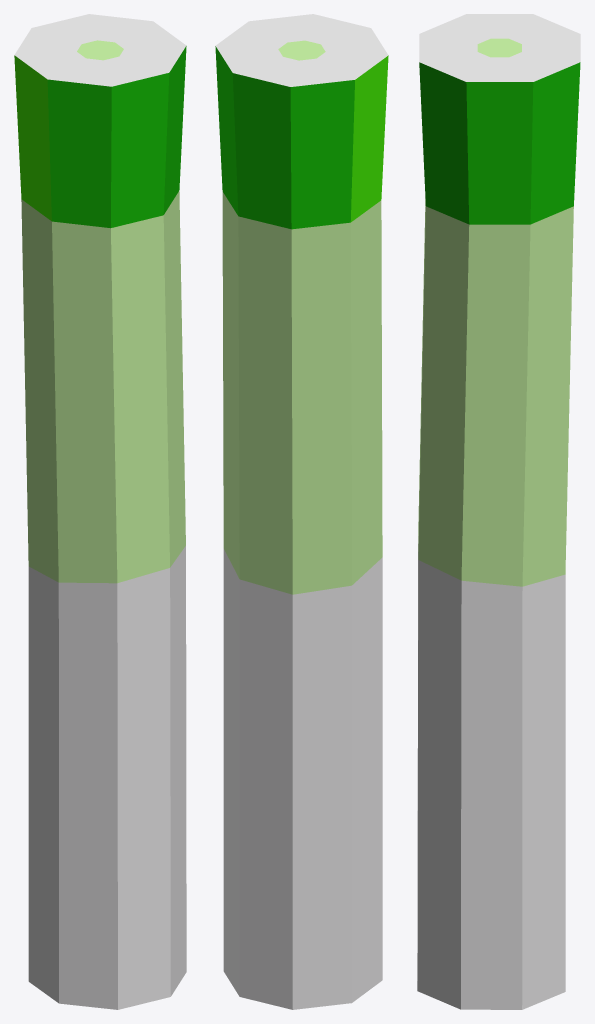
File: leek02.obj
The picture shows the model from 3 angles, left to right: view 1: azimuth 30°, elevation 25°; view 2: azimuth 150°, elevation 25°; view 3: azimuth 270°, elevation 25°; orthographic projection.
Parts seen in each view (by area): view 1: Cylinder.001_Cylinder; view 2: Cylinder.001_Cylinder; view 3: Cylinder.001_Cylinder.
Part boxes in pixels (x1=…): Cylinder.001_Cylinder: x1=14, y1=14, x2=186, y2=1009; Cylinder.001_Cylinder: x1=215, y1=14, x2=388, y2=1009; Cylinder.001_Cylinder: x1=417, y1=14, x2=580, y2=1009.
Bounding box in the file's own units: 0.0365 × 0.2321 × 0.0369.
Materials: 1 (1 with a texture image).
